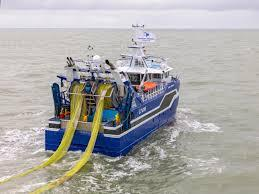fishing boat: (42, 22, 182, 158)
